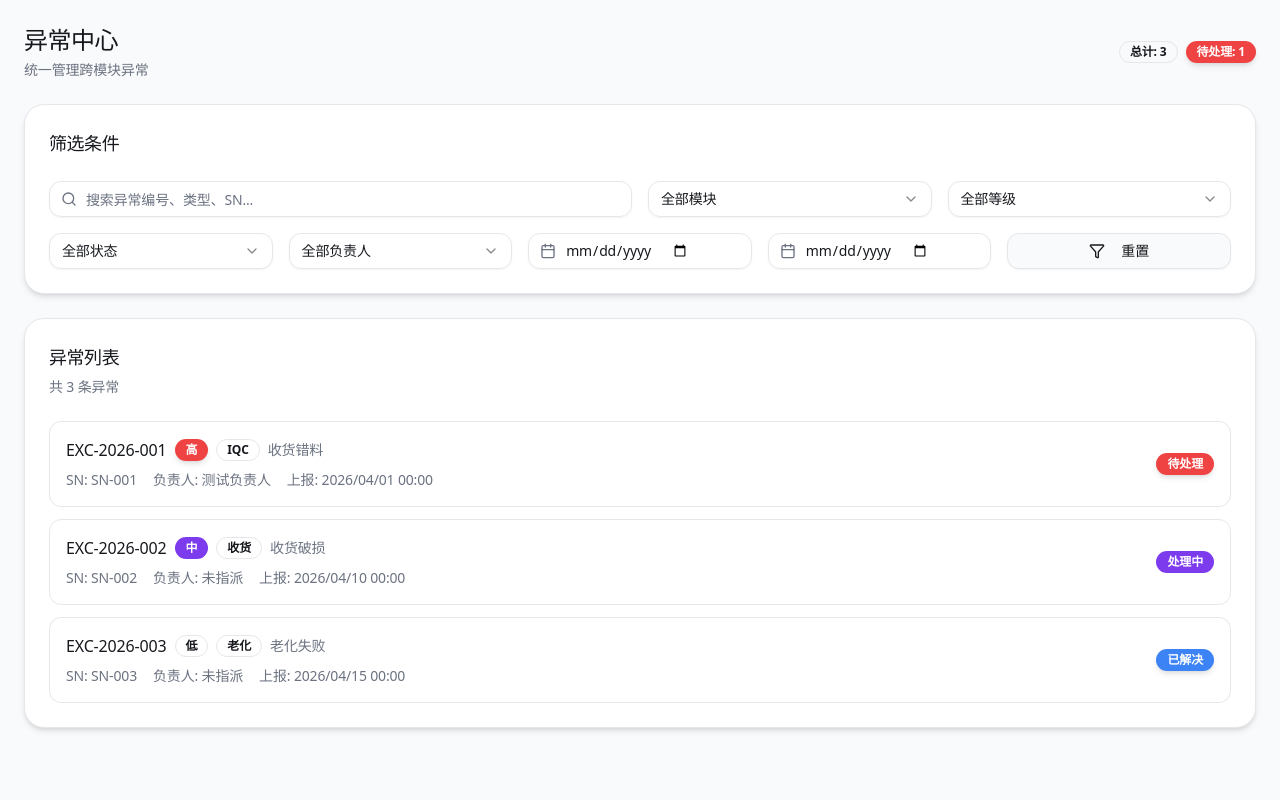
Test: ExceptionCenterPage › 应该支持搜索功能
This screenshot has width=1280, height=800.
Check: the text "EXC-2026-001" is shown, box [66,438,166,462]
In the field with placeholder "搜索异常编号、类型、SN...": (340, 199) [49,181,632,217], type "SN-002"
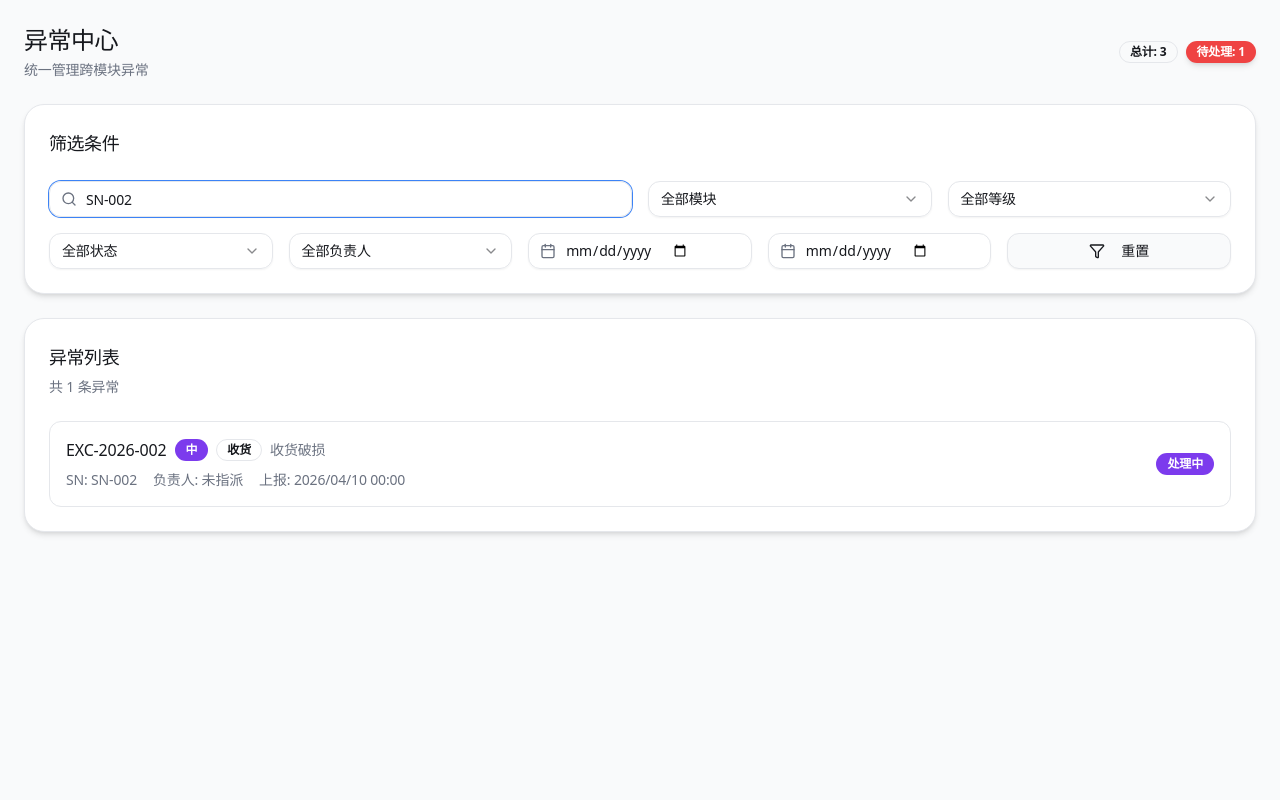
Check: the text "EXC-2026-002" is shown, box [66,438,166,462]
Check: the text "EXC-2026-001" is gone
Check: the text "EXC-2026-003" is gone
